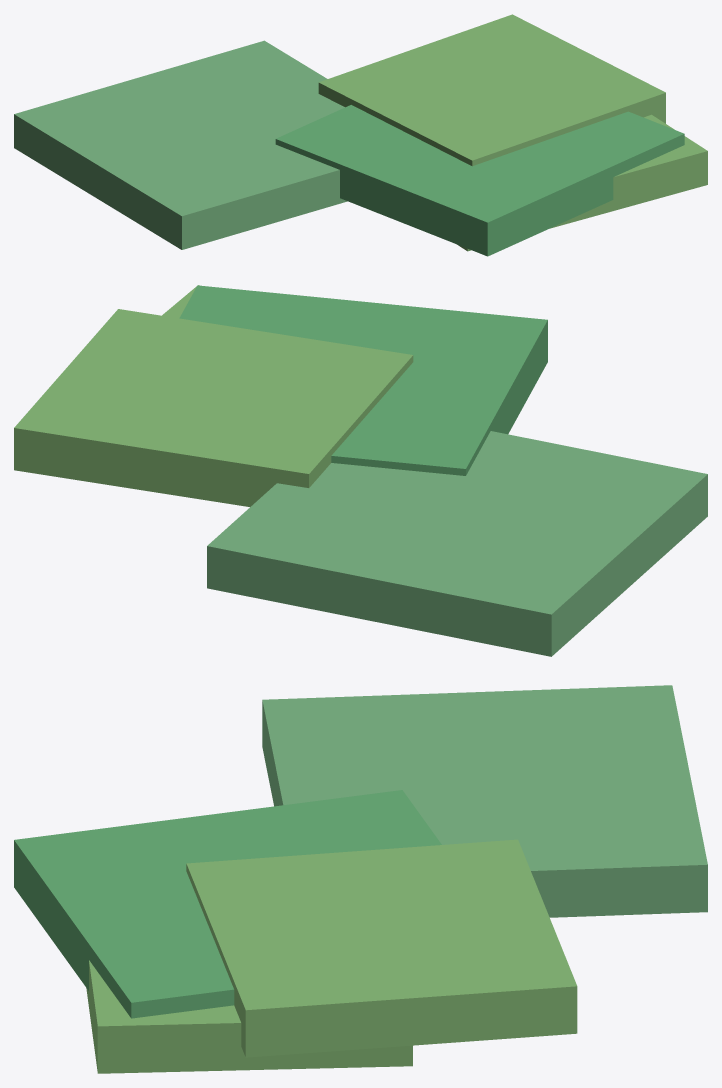
Rendered from moss-tile.glb.
3 renders of one model, top to bottom at view 1: azimuth 30°, elevation 25°; view 2: azimuth 150°, elevation 25°; view 3: azimuth 270°, elevation 25°, orthographic. The views are drawn at different scales.
Parts seen in each view (by area): view 1: moss-tile_body; view 2: moss-tile_body; view 3: moss-tile_body.
Boxes of the visible parts, x1,y1,x2,y2 form: moss-tile_body: [14, 14, 707, 256]; moss-tile_body: [14, 285, 707, 656]; moss-tile_body: [14, 685, 707, 1073].
Size of the model in its own units: 0.4628 by 0.045 by 0.3982.
